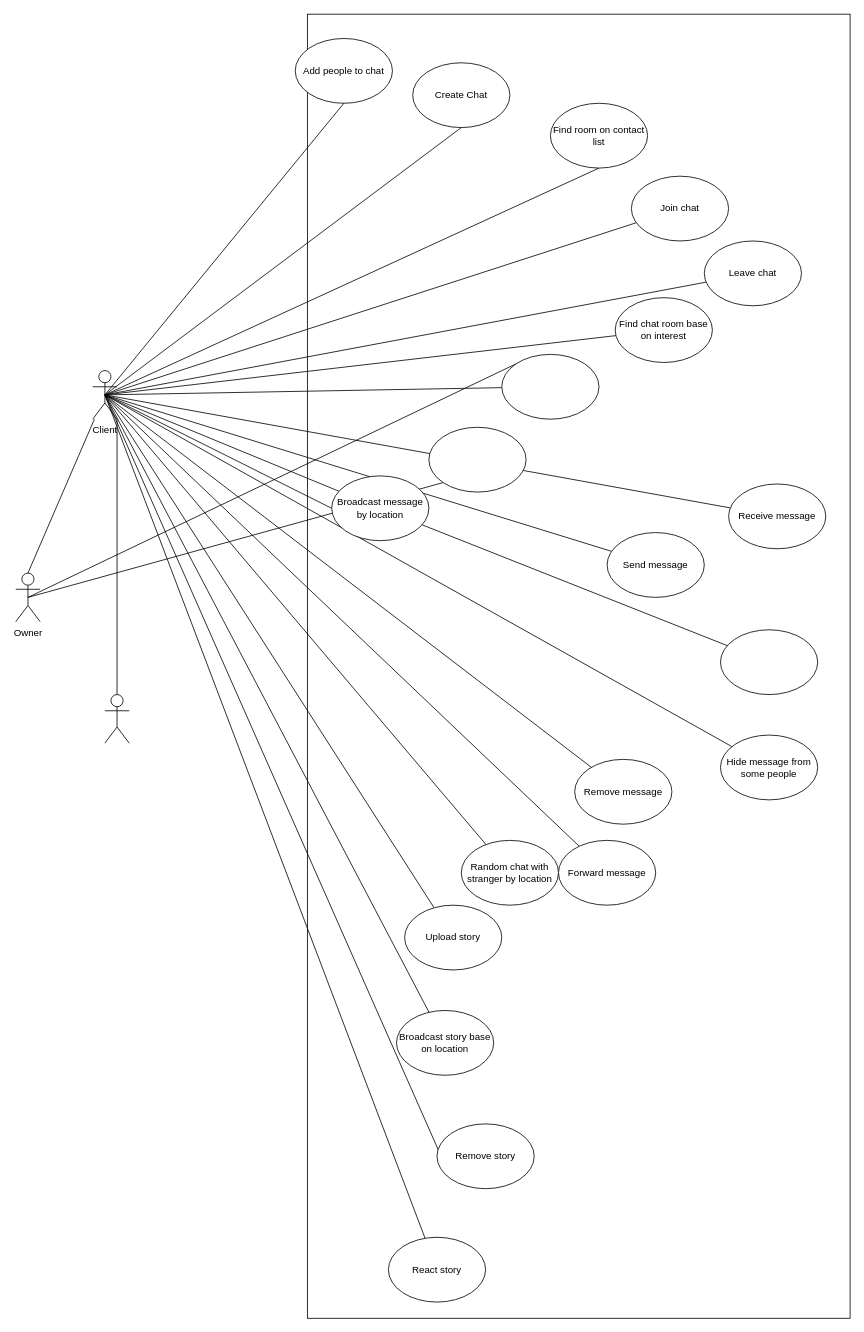
Image size: 864x1332. Some labels were removed from this diagram. Each missing label, with the centre of its shape:
"Create chat room and invite people base on interest" belongs at pixel 550 386.
"Member" belongs at pixel 116 718.
"Remove people from chat" belongs at pixel 477 459.
"Retrieve message" belongs at pixel 769 662.
